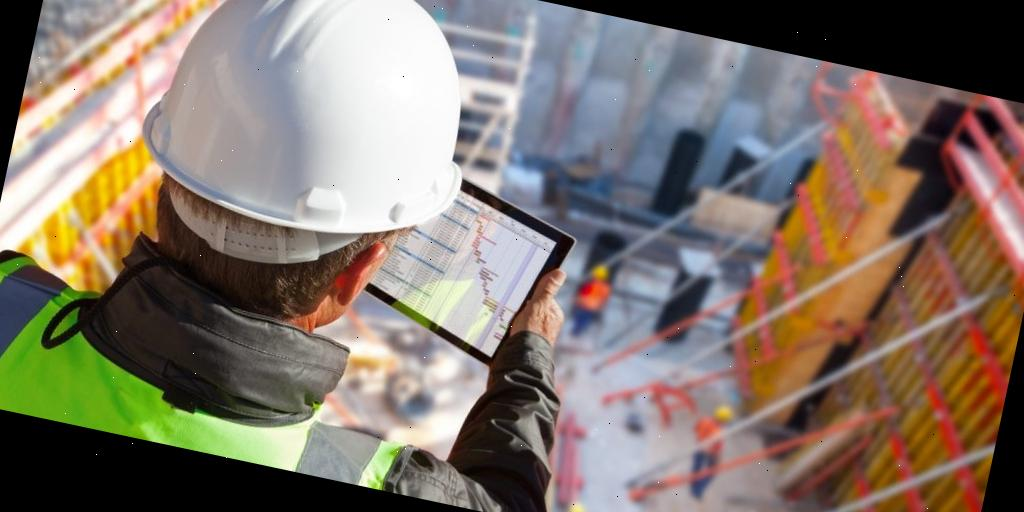helmet: (128, 0, 505, 257)
wear: (0, 262, 507, 510)
